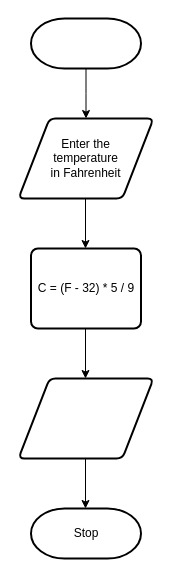
The diagram is 171 pixels wide and 576 high, and some of its shapes have lost their labels. The centre of each missing label's shape, as x and y in pixels:
"Show temperature in Celsius" belongs at pixel 85 418.
"Start" belongs at pixel 86 43.
